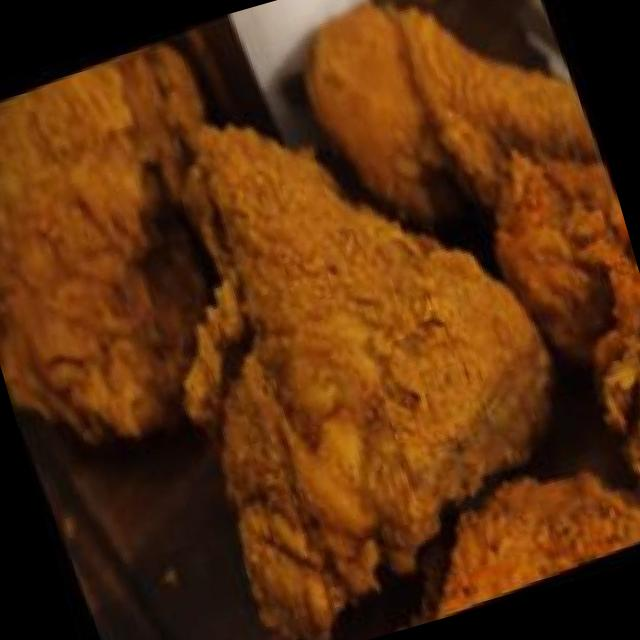fried chicken: (82, 7, 570, 610), (0, 25, 305, 459), (267, 0, 619, 292), (453, 125, 640, 563), (371, 428, 640, 628)
